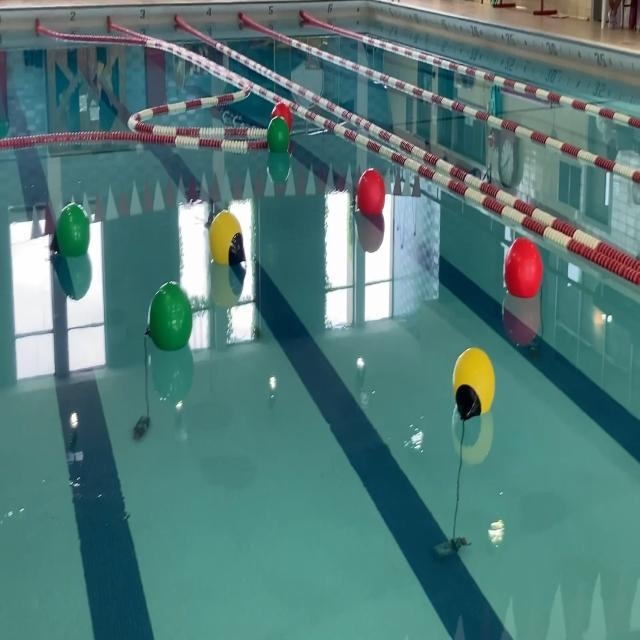buoy: (144, 278, 193, 354), (453, 344, 495, 422), (504, 236, 542, 301), (50, 201, 90, 261), (207, 208, 246, 268), (356, 168, 384, 222), (266, 114, 290, 154), (272, 101, 294, 130)
